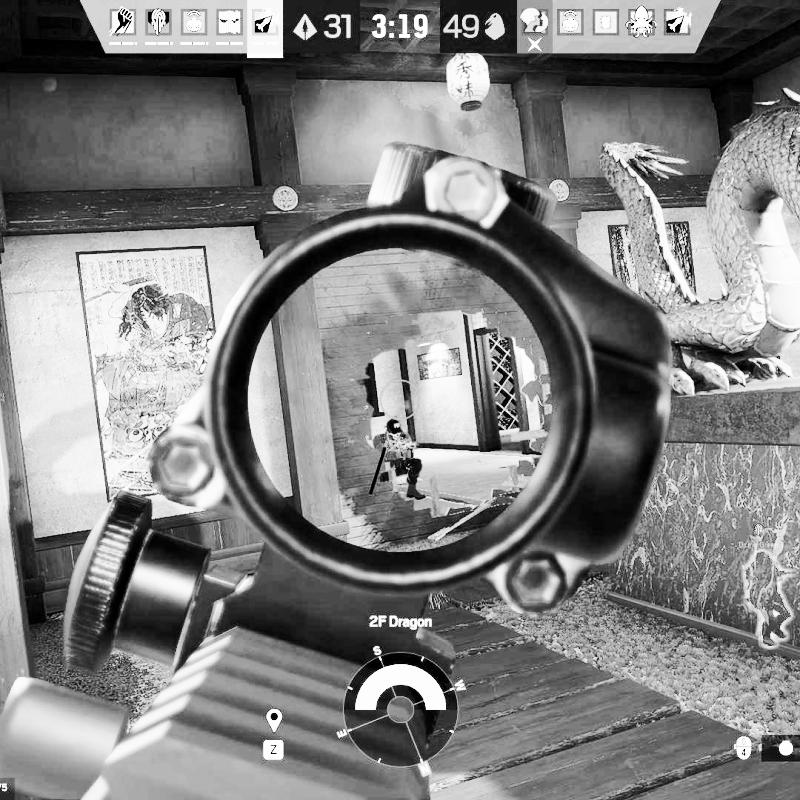Character: (372, 416, 424, 498)
Head: (386, 419, 404, 440)
